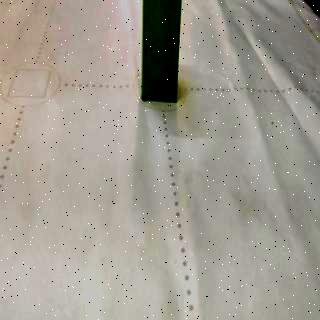greenbox: (140, 0, 182, 102)
